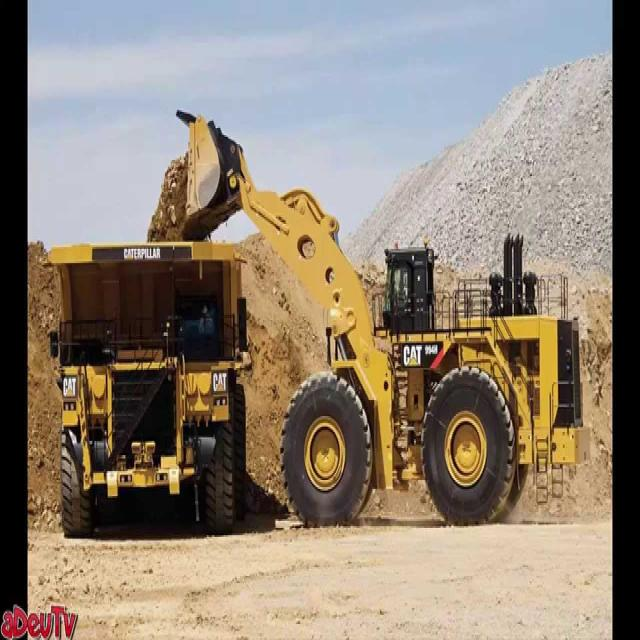buldozerpayloadergrader: (179, 91, 605, 541)
dump_truck: (46, 230, 255, 539)
